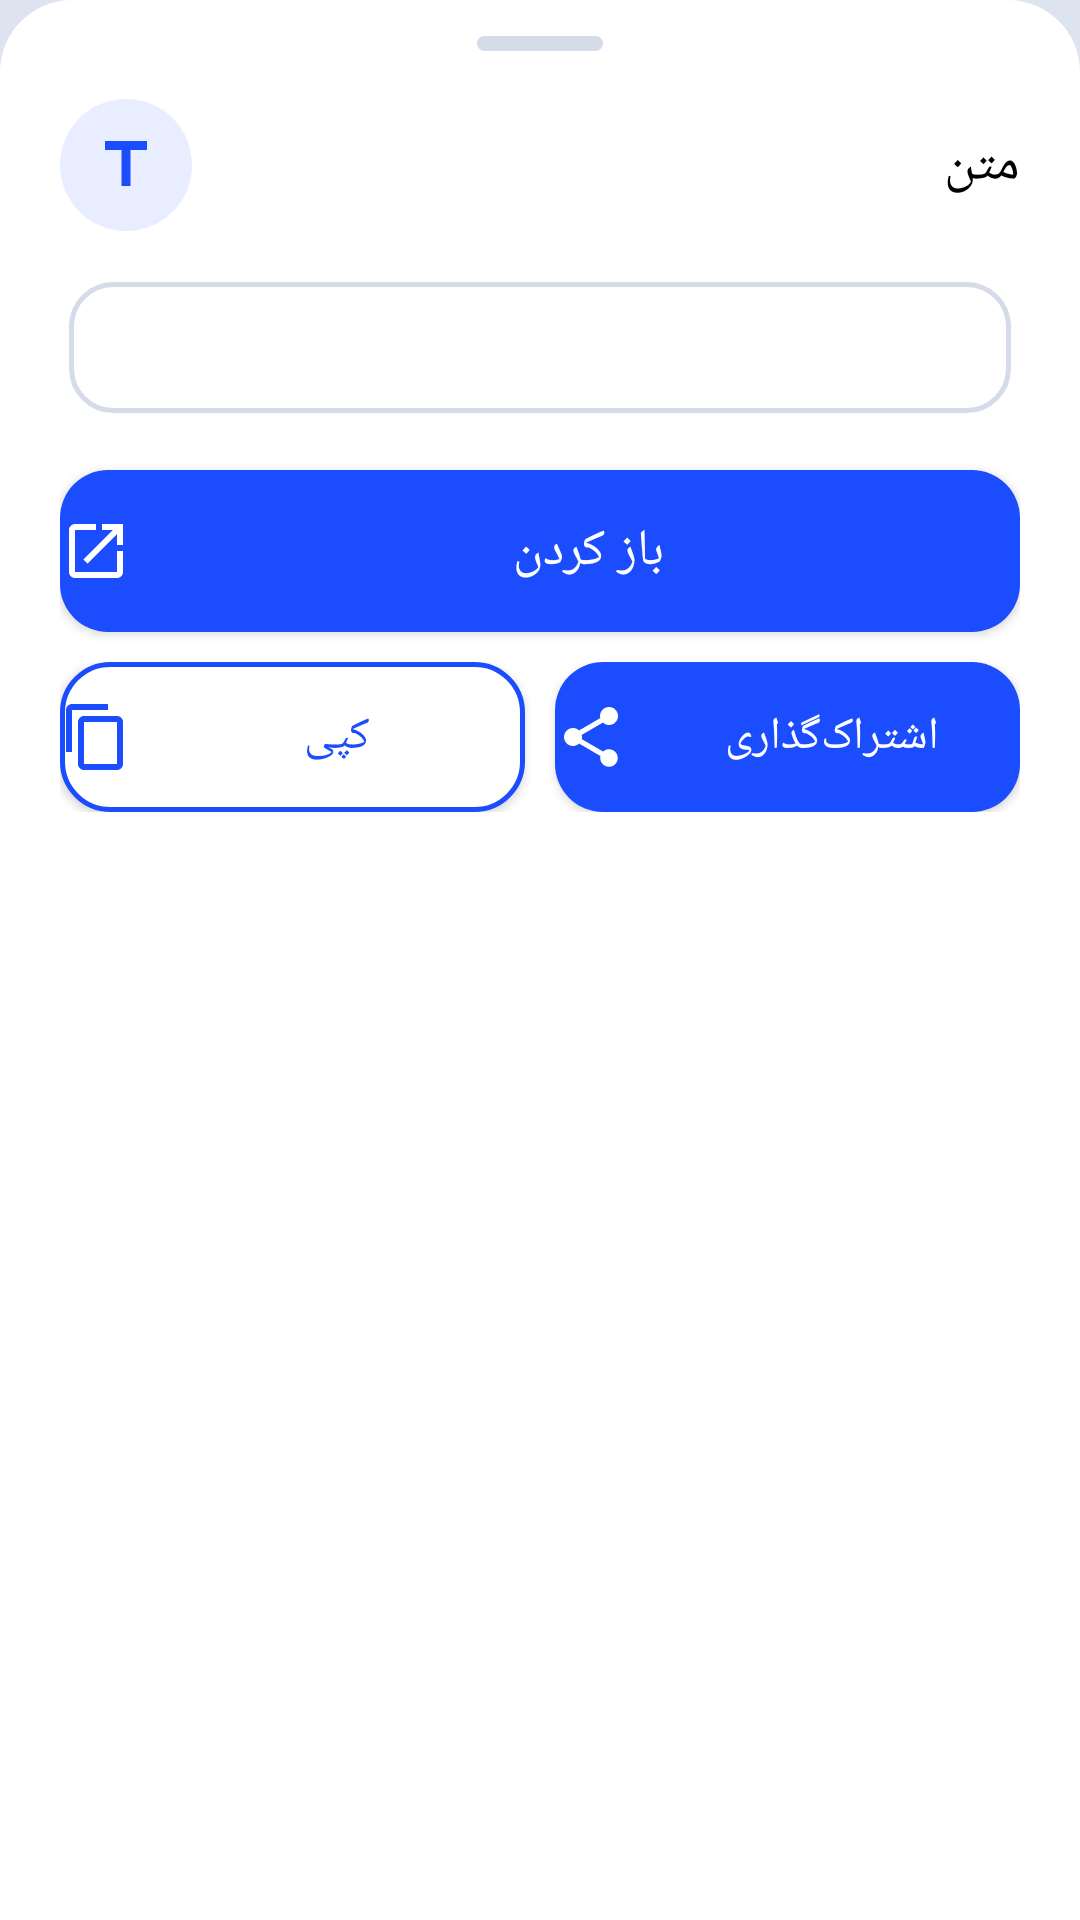

Where icons sit on this 1080w x 1920h app screen, as detection(x1, y1, x2, y2):
text: detection(105, 141, 147, 186)
